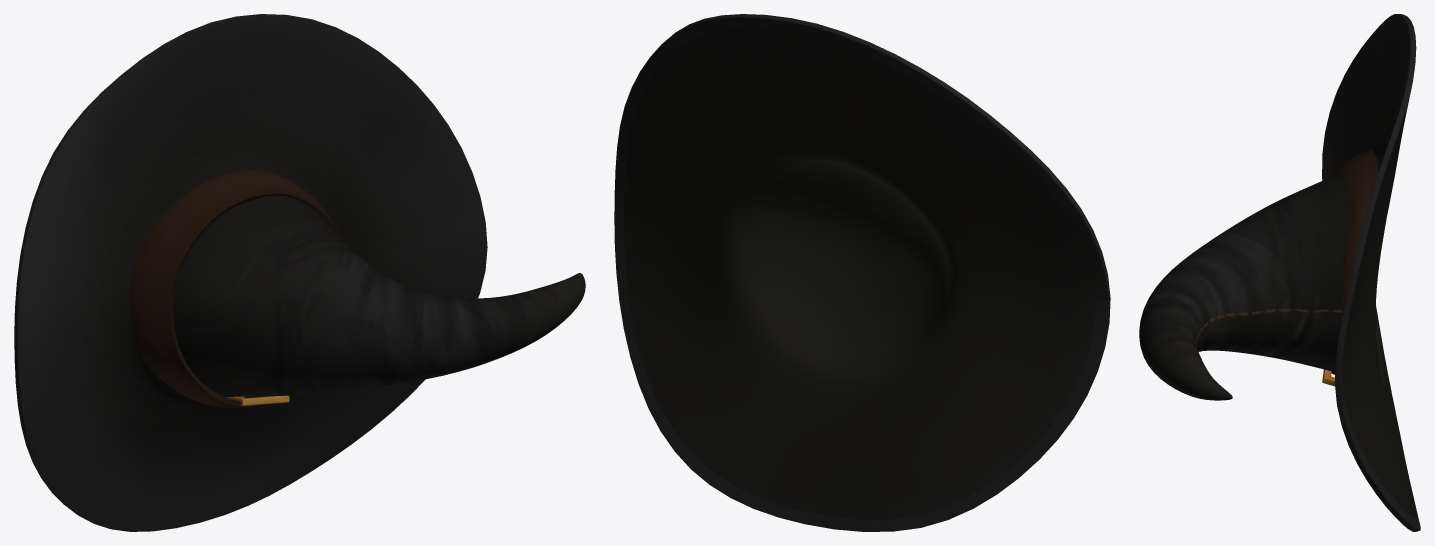
Rendered from 10838_WitchHat_LOD3.obj.
3 views of the same model, side by side, from view 1: azimuth 30°, elevation 25°; view 2: azimuth 150°, elevation 25°; view 3: azimuth 270°, elevation 25° (orthographic). The views are drawn at different scales.
Parts seen in each view (by area): view 1: Default; view 2: Default; view 3: Default.
Part boxes in pixels (left/top/right/bottom): Default: left=14, top=14, right=585, bottom=531; Default: left=614, top=14, right=1110, bottom=531; Default: left=1139, top=14, right=1420, bottom=531.
Size of the model in its own units: 26.51 by 24.21 by 13.19.
